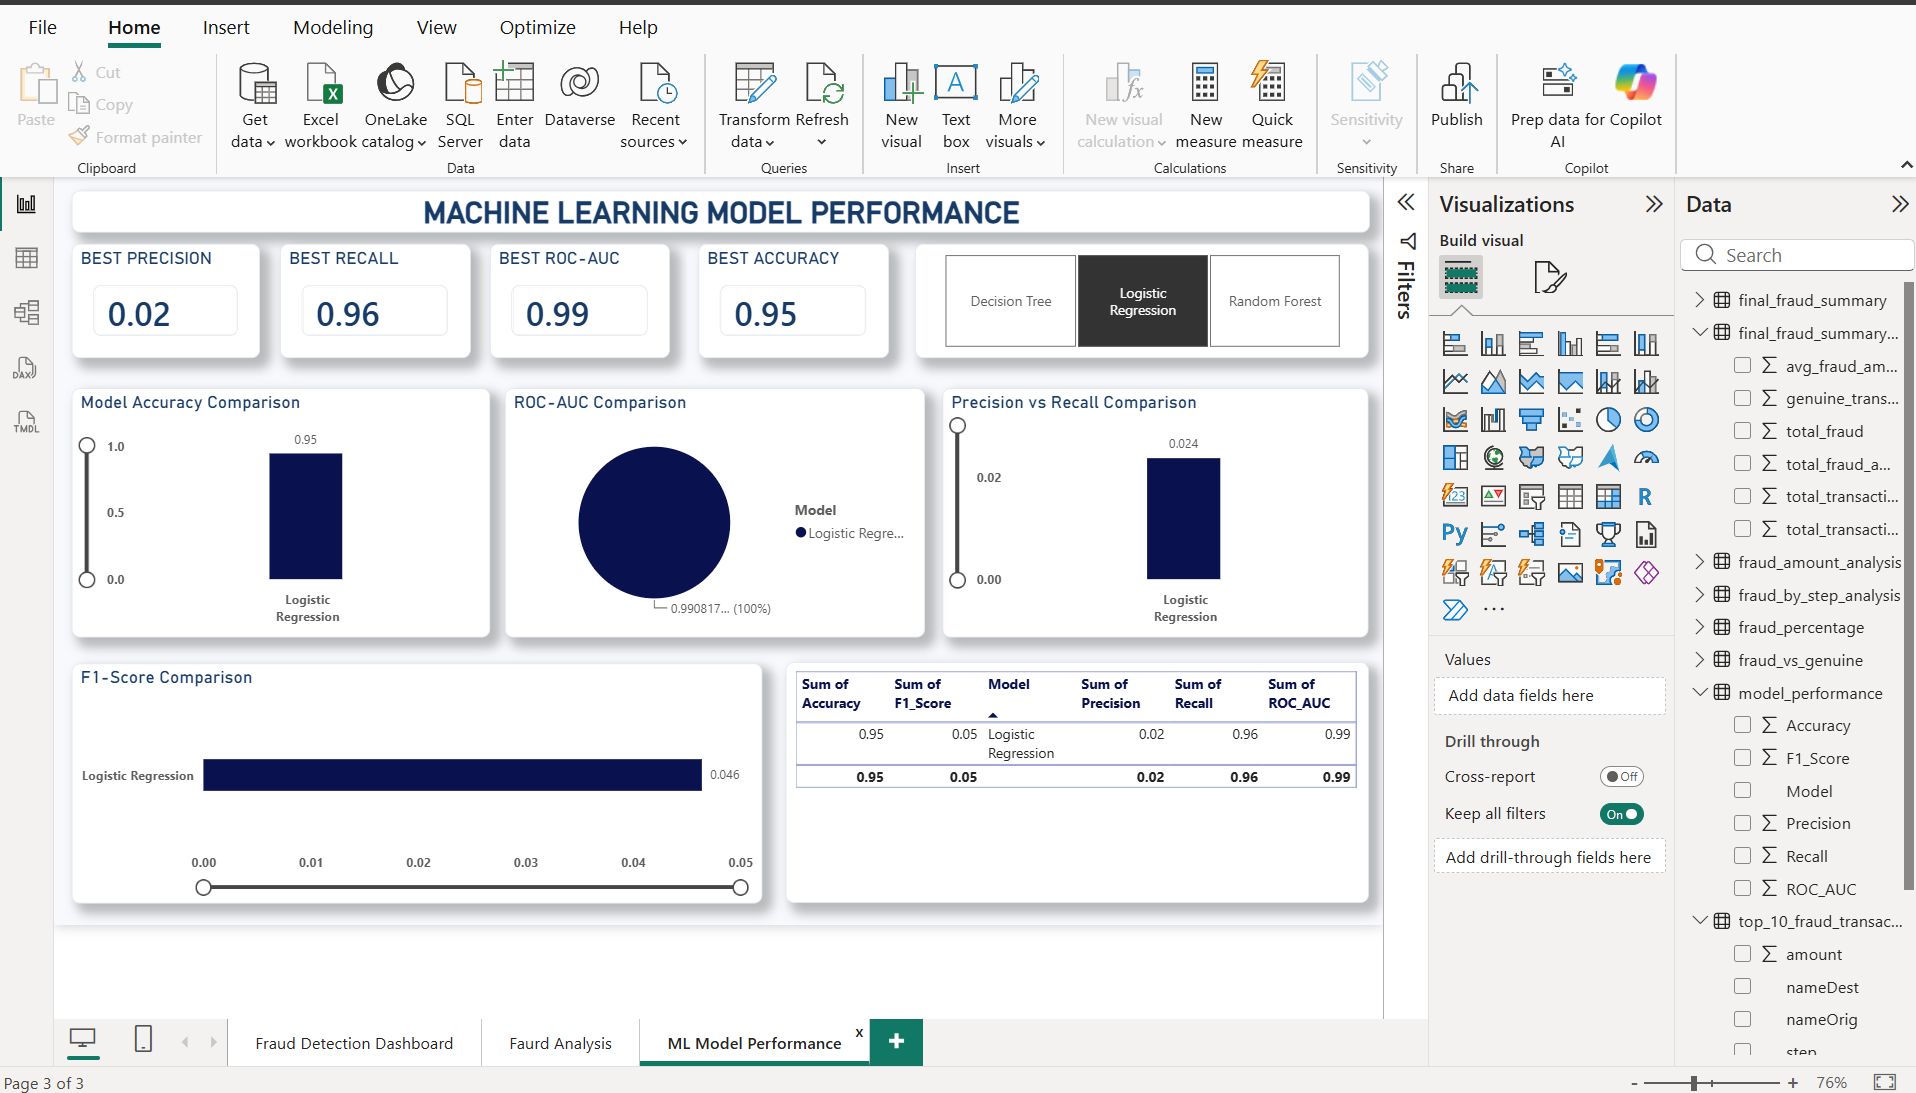

The page's visual inventory and layout, read from the dashboard file:
{"tool":"powerbi","page":{"name":"ML Model Performance","canvas":[1280,720],"ordinal":2},"visuals":[{"type":"textbox","title":"MACHINE LEARNING MODEL PERFORMANCE","box":[17.1,13.1,1250.2,40.7],"z":0},{"type":"clusteredColumnChart","title":"Model Accuracy Comparison","fields":{"Y":["Sum(model_performance.Accuracy)"],"Category":["model_performance.Model"]},"box":[17.1,203.3,402.7,240.1],"z":1},{"type":"cardVisual","title":"BEST ACCURACY","fields":{"Data":["Sum(model_performance.Accuracy)"]},"box":[620.5,64.3,183.7,110.2],"z":2},{"type":"cardVisual","title":"BEST PRECISION","fields":{"Data":["Sum(model_performance.Precision)"]},"box":[17.1,64.3,181,110.2],"z":3},{"type":"cardVisual","title":"BEST RECALL","fields":{"Data":["Sum(model_performance.Recall)"]},"box":[217.8,64.3,183.7,110.2],"z":4},{"type":"cardVisual","title":"BEST ROC-AUC","fields":{"Data":["Sum(model_performance.ROC_AUC)"]},"box":[419.8,64.3,173.2,110.2],"z":5},{"type":"clusteredColumnChart","title":"Precision vs Recall Comparison","fields":{"Y":["Sum(model_performance.Precision)"],"Category":["model_performance.Model"]},"box":[855.3,203.3,410.6,240.1],"z":6},{"type":"clusteredBarChart","title":"F1-Score Comparison","fields":{"Y":["Sum(model_performance.F1_Score)"],"Category":["model_performance.Model"]},"box":[17.1,468.3,665.1,230.9],"z":7},{"type":"pieChart","title":"ROC-AUC Comparison","fields":{"Y":["Sum(model_performance.ROC_AUC)"],"Category":["model_performance.Model"]},"box":[434.2,203.3,404.1,240.1],"z":8},{"type":"tableEx","fields":{"Values":["Sum(model_performance.Accuracy)","Sum(model_performance.F1_Score)","model_performance.Model","Sum(model_performance.Precision)","Sum(model_performance.Recall)","Sum(model_performance.ROC_AUC)"]},"box":[704.5,467,561.5,232.2],"z":9},{"type":"slicer","fields":{"Values":["model_performance.Model"]},"box":[829.1,64.3,436.9,110.2],"z":10}]}

Visuals, with their boxes on the page's 1280x720 design canvas (x1, y1, x2, y2). These are canvas units, not pixel positions in the 1916x1093 screenshot, which may show the page scaled, cropped or inside an application window:
"MACHINE LEARNING MODEL PERFORMANCE" textbox: bbox(17, 13, 1267, 54)
"Model Accuracy Comparison" clusteredColumnChart: bbox(17, 203, 420, 443)
"BEST ACCURACY" cardVisual: bbox(620, 64, 804, 174)
"BEST PRECISION" cardVisual: bbox(17, 64, 198, 174)
"BEST RECALL" cardVisual: bbox(218, 64, 402, 174)
"BEST ROC-AUC" cardVisual: bbox(420, 64, 593, 174)
"Precision vs Recall Comparison" clusteredColumnChart: bbox(855, 203, 1266, 443)
"F1-Score Comparison" clusteredBarChart: bbox(17, 468, 682, 699)
"ROC-AUC Comparison" pieChart: bbox(434, 203, 838, 443)
tableEx - Sum(model_performance.Accuracy) x Sum(model_performance.F1_Score): bbox(704, 467, 1266, 699)
slicer - model_performance.Model: bbox(829, 64, 1266, 174)
